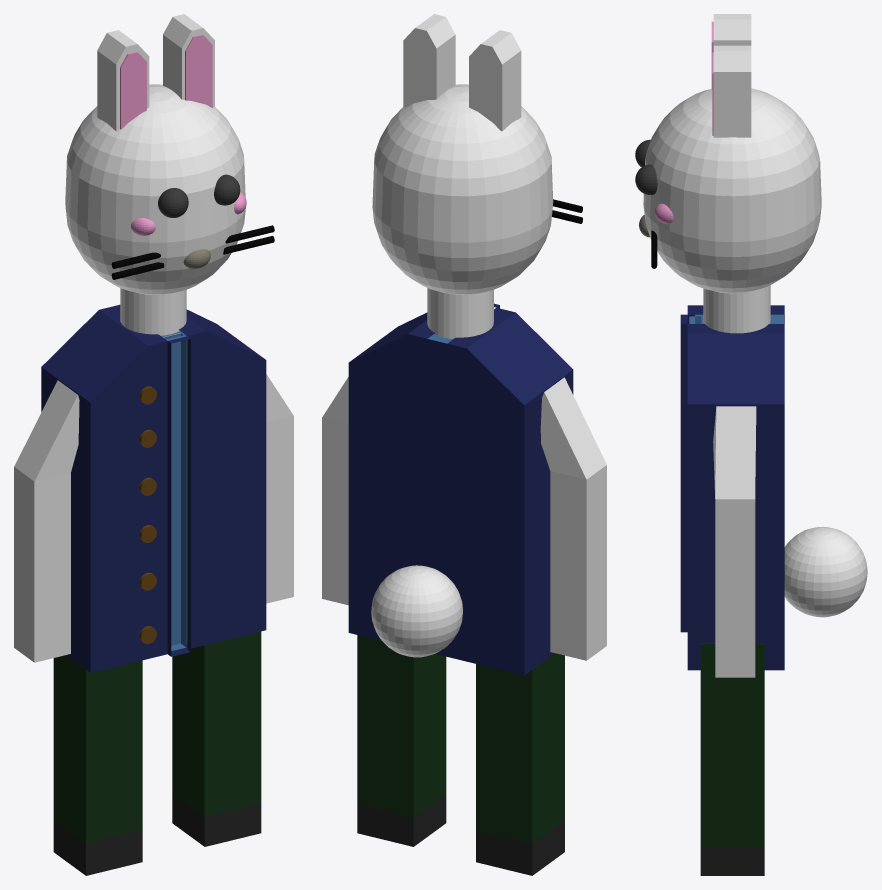
Rendered from Vander.fbx.
3 renders of one model, left to right at view 1: azimuth 30°, elevation 25°; view 2: azimuth 150°, elevation 25°; view 3: azimuth 270°, elevation 25°, orthographic.
Parts seen in each view (by area): view 1: Shirt, Head, LLeg, RLeg, LArm, RArm, Body, Neck, LEar, REar, RInnerEar, LInnerEar (+2 smaller); view 2: Shirt, Head, LLeg, RLeg, LArm, Tail, RArm, LEar, REar, Neck; view 3: Head, Shirt, RLeg, RArm, Tail, REar, Neck, LEar, REye.
Boxes of the visible parts, x1=… form: Shirt: x1=41, y1=304, x2=266, y2=672; Head: x1=65, y1=84, x2=245, y2=294; LLeg: x1=53, y1=655, x2=142, y2=875; RLeg: x1=172, y1=631, x2=261, y2=846; LArm: x1=14, y1=380, x2=79, y2=662; RArm: x1=266, y1=374, x2=293, y2=603; Body: x1=161, y1=331, x2=187, y2=650; Neck: x1=120, y1=288, x2=186, y2=337; LEar: x1=97, y1=30, x2=149, y2=131; REar: x1=163, y1=14, x2=214, y2=107; RInnerEar: x1=185, y1=34, x2=212, y2=107; LInnerEar: x1=120, y1=51, x2=146, y2=129; Shirt: x1=348, y1=303, x2=573, y2=675; Head: x1=372, y1=84, x2=553, y2=294; LLeg: x1=476, y1=653, x2=564, y2=875; RLeg: x1=357, y1=635, x2=446, y2=846; LArm: x1=540, y1=377, x2=606, y2=660; Tail: x1=371, y1=565, x2=462, y2=657; RArm: x1=322, y1=377, x2=348, y2=605; LEar: x1=469, y1=30, x2=521, y2=131; REar: x1=403, y1=14, x2=455, y2=107; Neck: x1=427, y1=288, x2=493, y2=338; Head: x1=643, y1=88, x2=821, y2=293; Shirt: x1=680, y1=305, x2=784, y2=670; RLeg: x1=700, y1=643, x2=764, y2=875; RArm: x1=713, y1=406, x2=756, y2=677; Tail: x1=784, y1=526, x2=867, y2=617; REar: x1=713, y1=45, x2=751, y2=137; Neck: x1=703, y1=285, x2=770, y2=333; LEar: x1=713, y1=14, x2=751, y2=45; REye: x1=635, y1=164, x2=657, y2=194.
Bounding box in the file's own units: 203 × 602 × 158.
